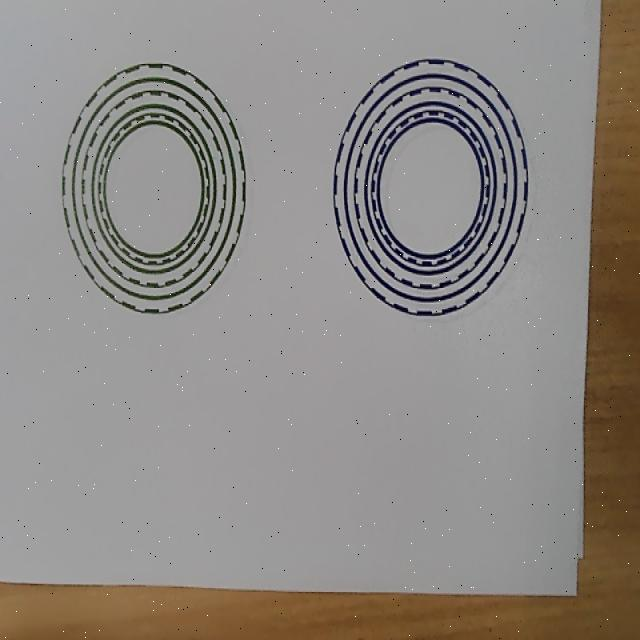b: (333, 57, 528, 316)
g: (61, 61, 246, 314)
